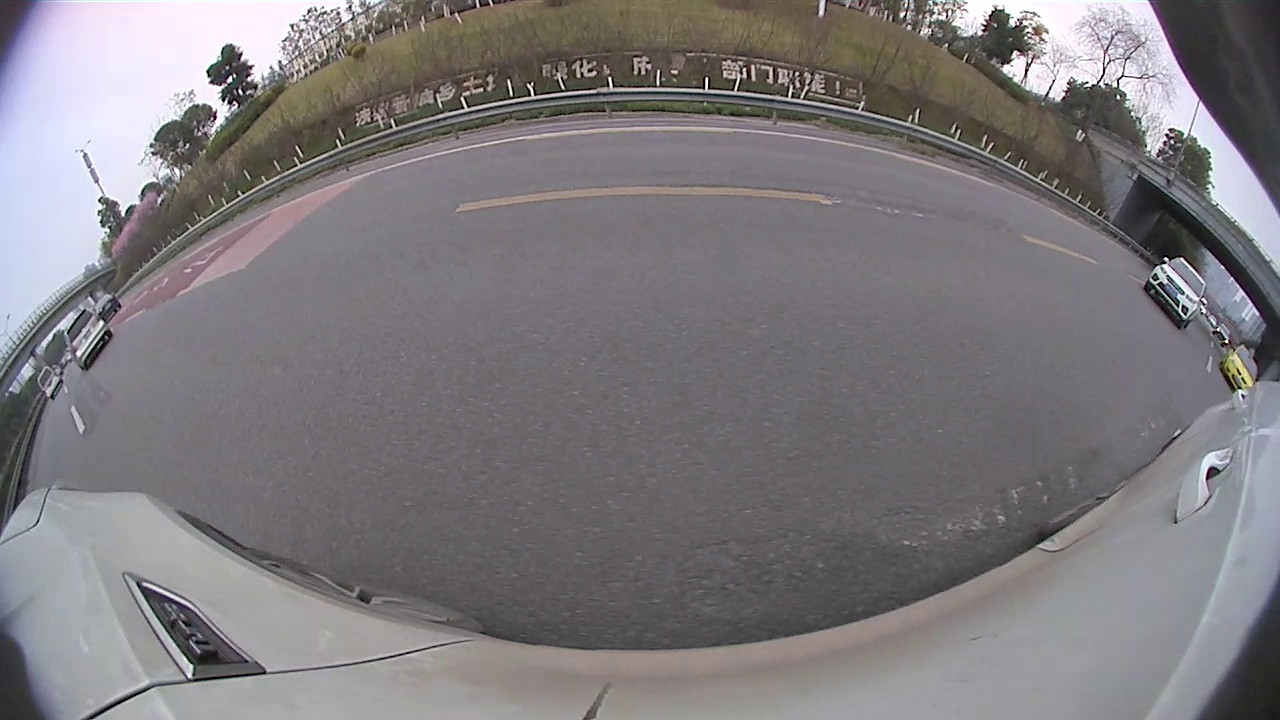car: (1143, 254, 1208, 331), (62, 306, 114, 373), (1220, 343, 1259, 392), (32, 367, 66, 399), (93, 292, 123, 324)
